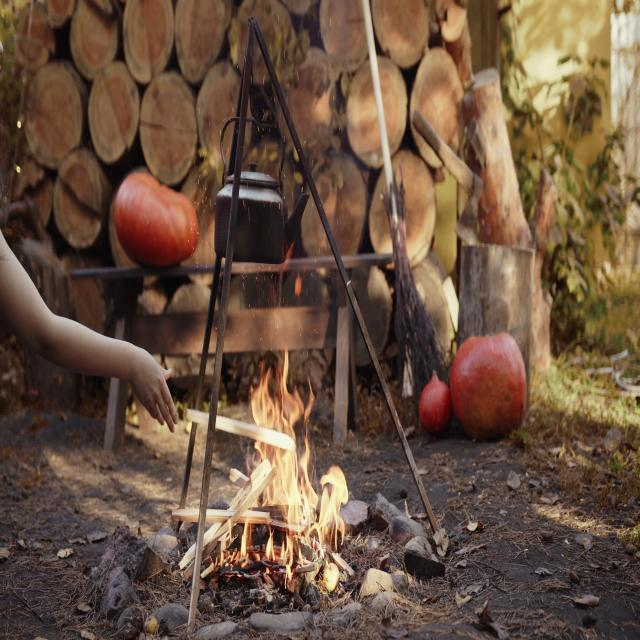Fire: (223, 328, 354, 596)
